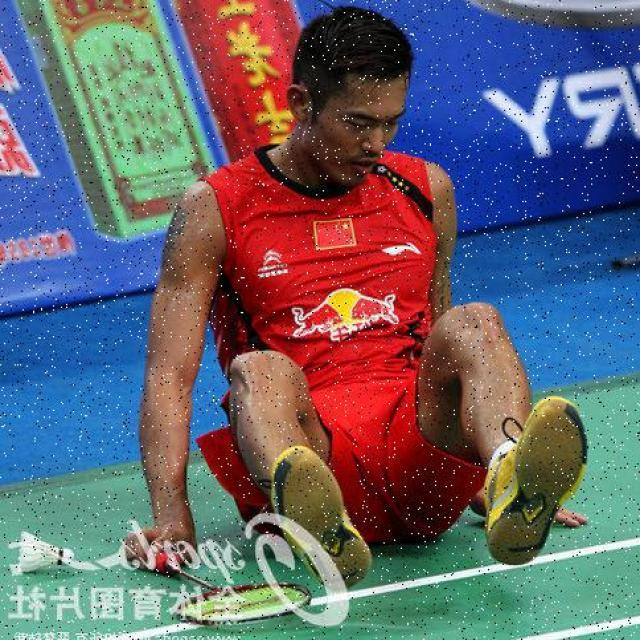fall: (123, 34, 571, 606)
